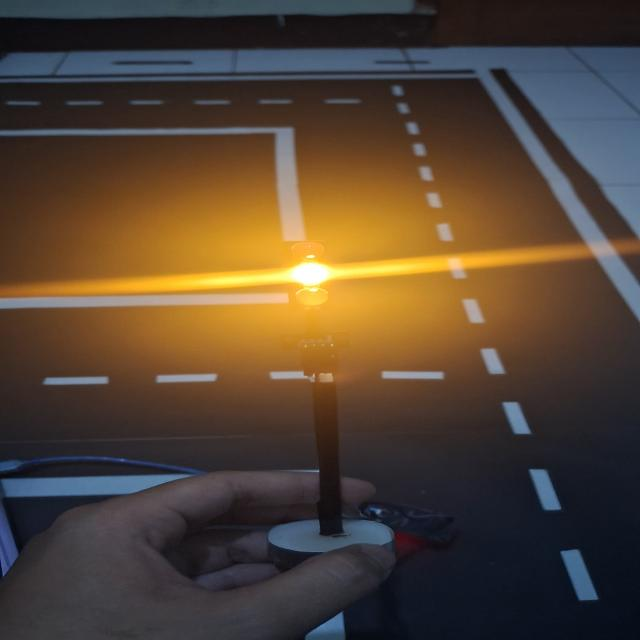Lampu Kuning: (284, 240, 338, 318)
